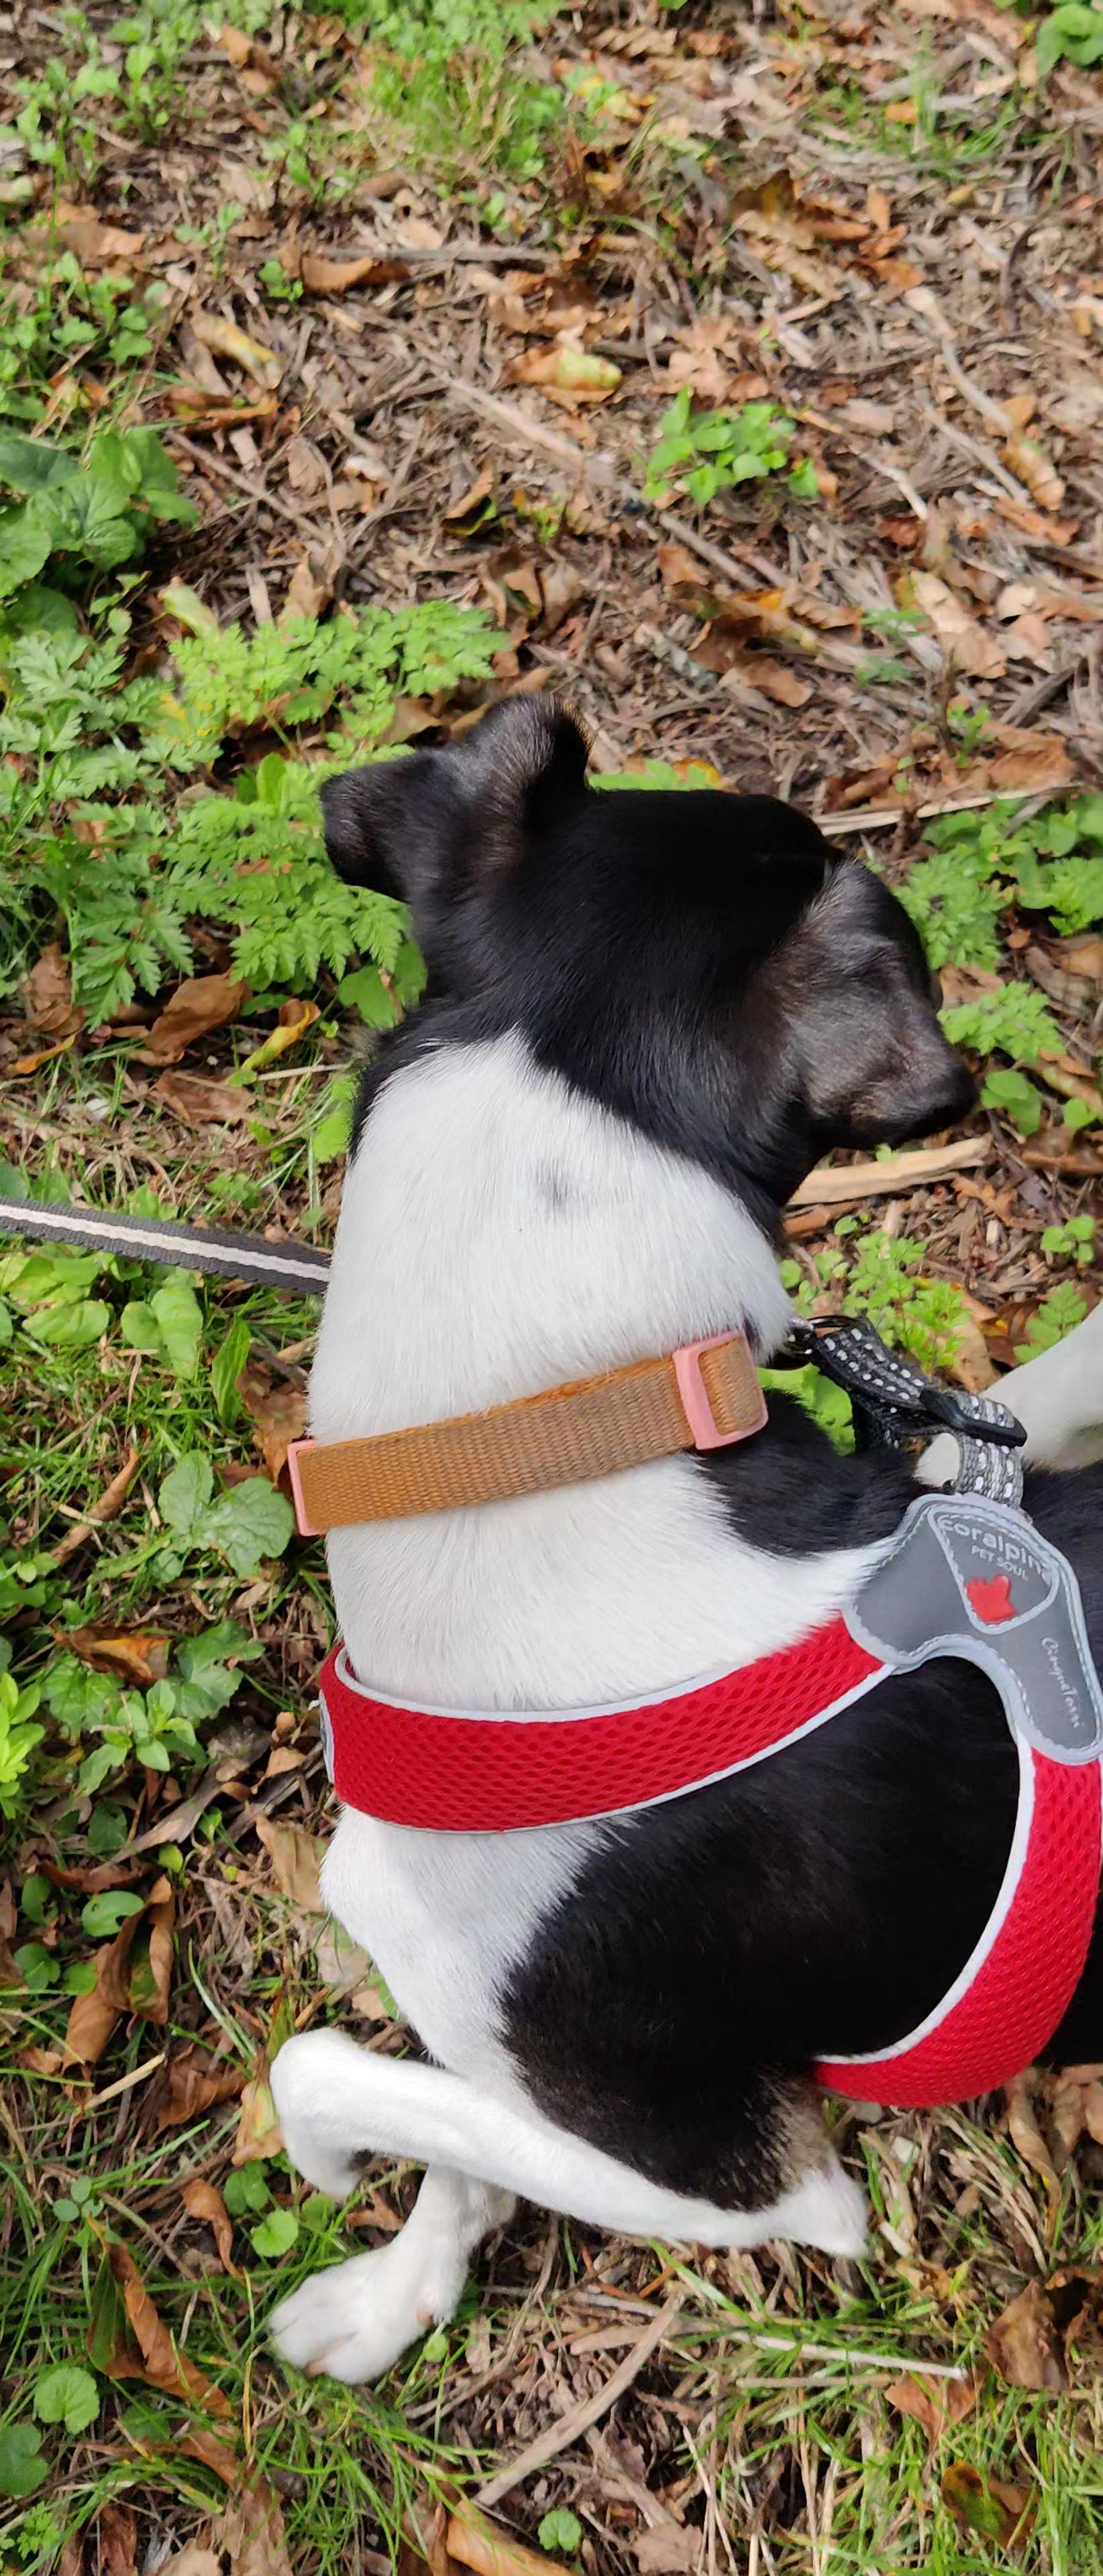Dog: (197, 660, 1103, 2394)
